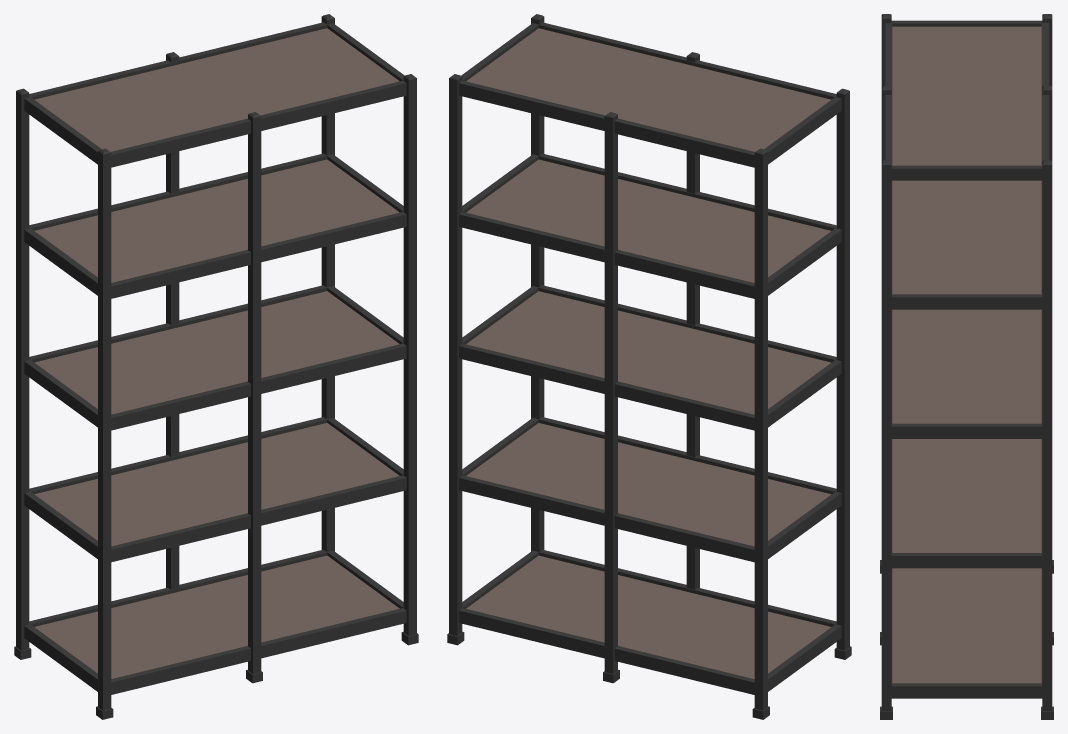
File: props_65.glb
3 renders of one model, left to right at view 1: azimuth 30°, elevation 25°; view 2: azimuth 150°, elevation 25°; view 3: azimuth 270°, elevation 25°, orthographic.
Visible parts, largest first — view 1: props_65; view 2: props_65; view 3: props_65.
Boxes of the visible parts, x1,y1,x2,y2 form: props_65: [14, 14, 418, 719]; props_65: [447, 14, 851, 719]; props_65: [880, 14, 1053, 719].
Bounding box in the file's own units: 1.97 × 3.37 × 0.9536.
Materials: 1 (1 with a texture image).
